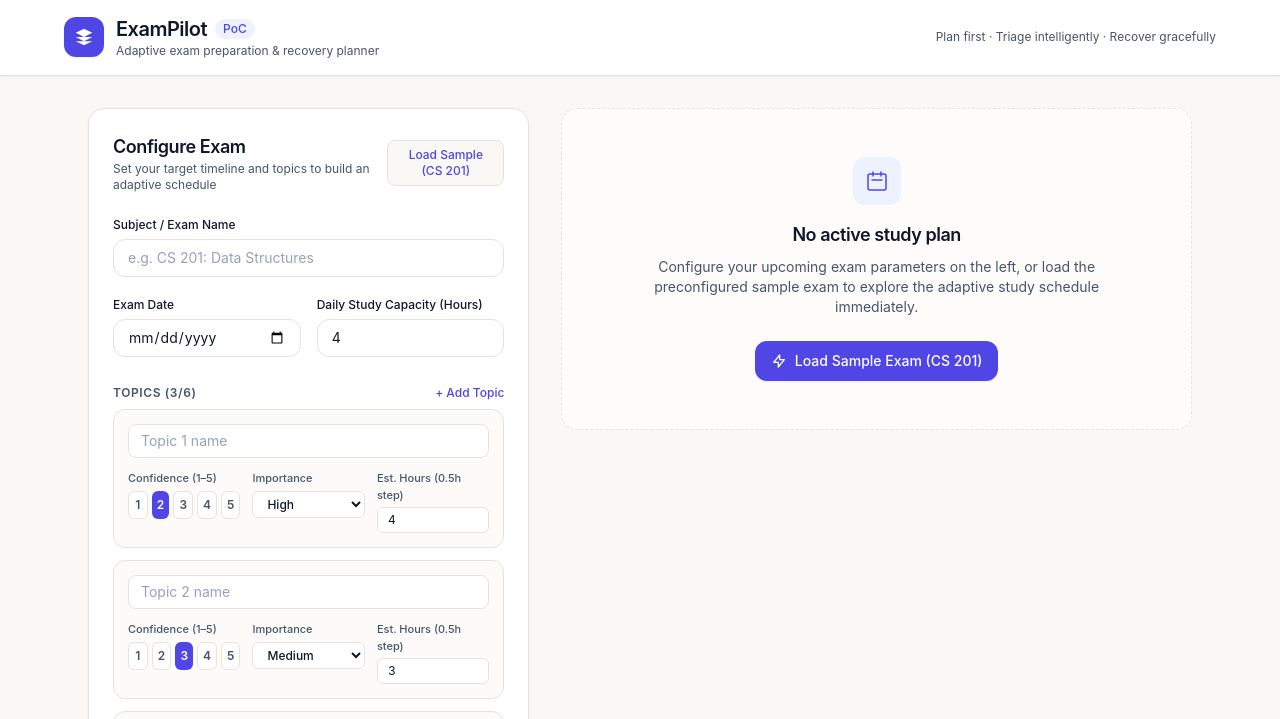
Test case: App Integration & End-to-End Golden Flow › tests reset confirmation modal: cancelling preserves plan, confirming resets to empty state
Note: Load sample
Click the button "Load Sample Exam (CS 201)" at coordinates (877, 361), box x1=755 y1=341 x2=998 y2=381
(page scrolled)
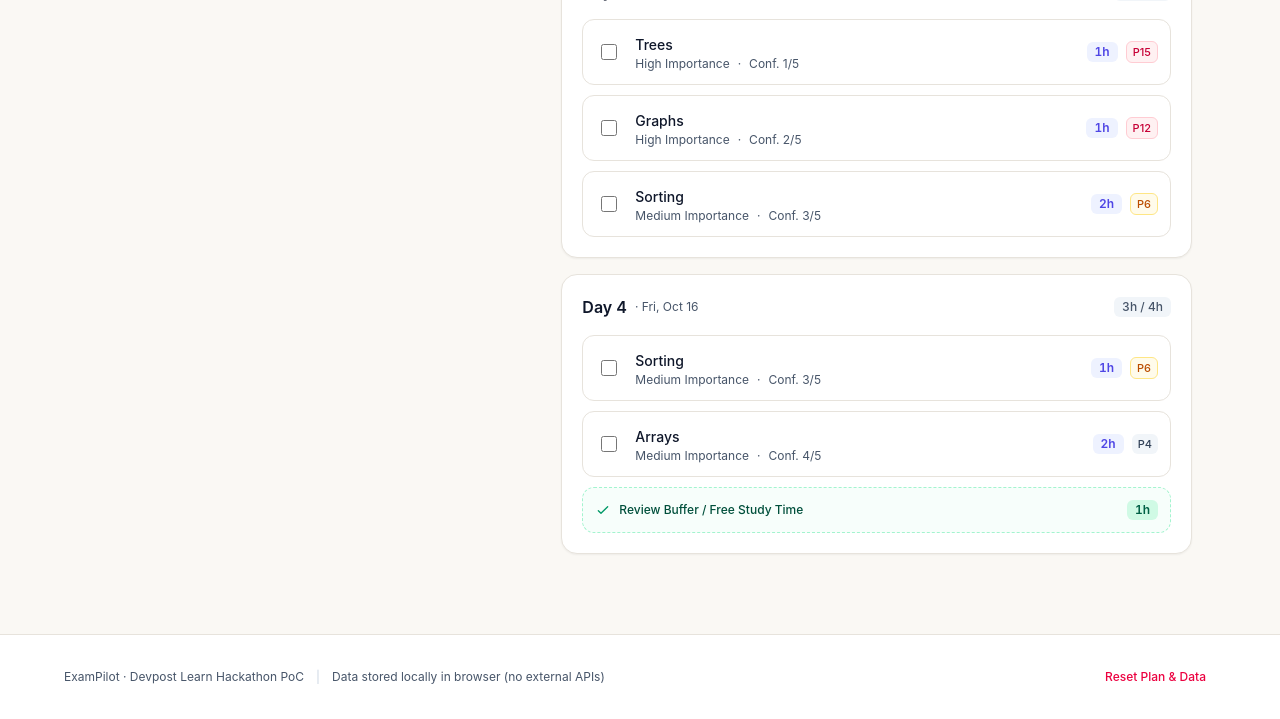
Note: Click Reset in Footer
Click the button "Reset Plan & Data" at coordinates (1156, 677), box x1=1095 y1=659 x2=1216 y2=695
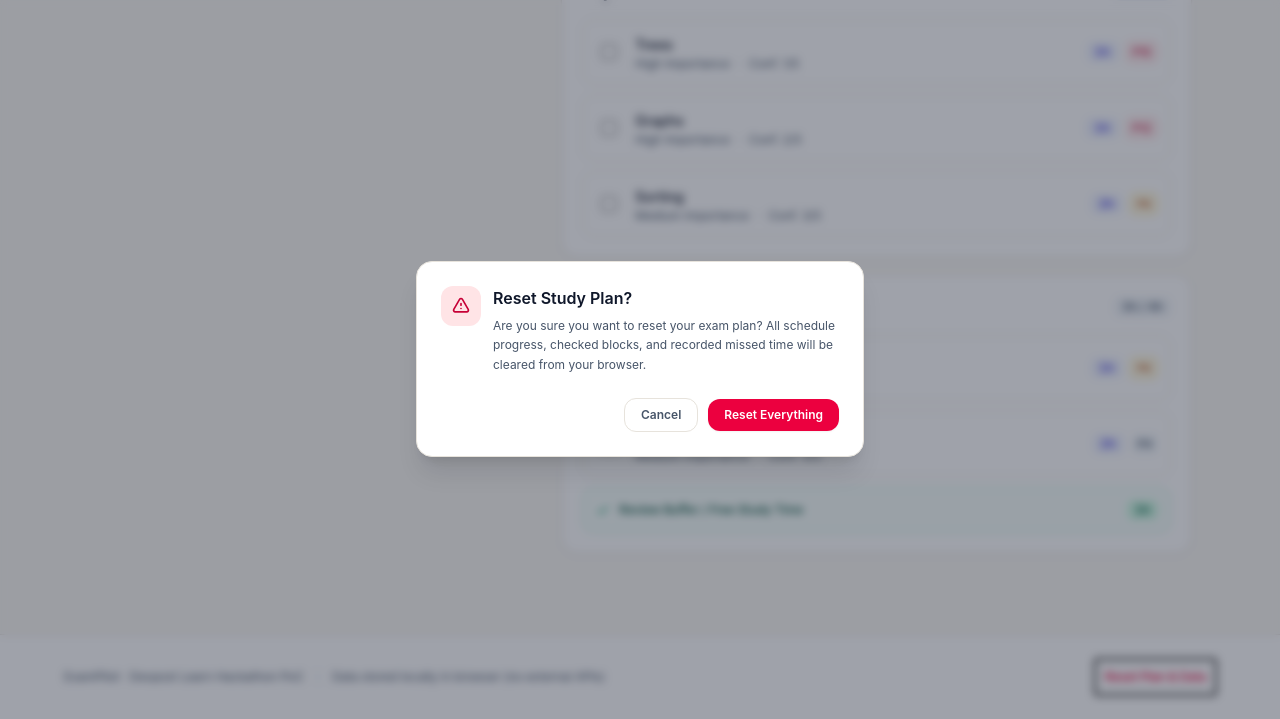
Now the heading "Reset Study Plan?" is shown, box x1=493 y1=288 x2=632 y2=308
Note: Cancel reset
Click the button "Cancel" at coordinates (661, 415), box x1=624 y1=398 x2=698 y2=432
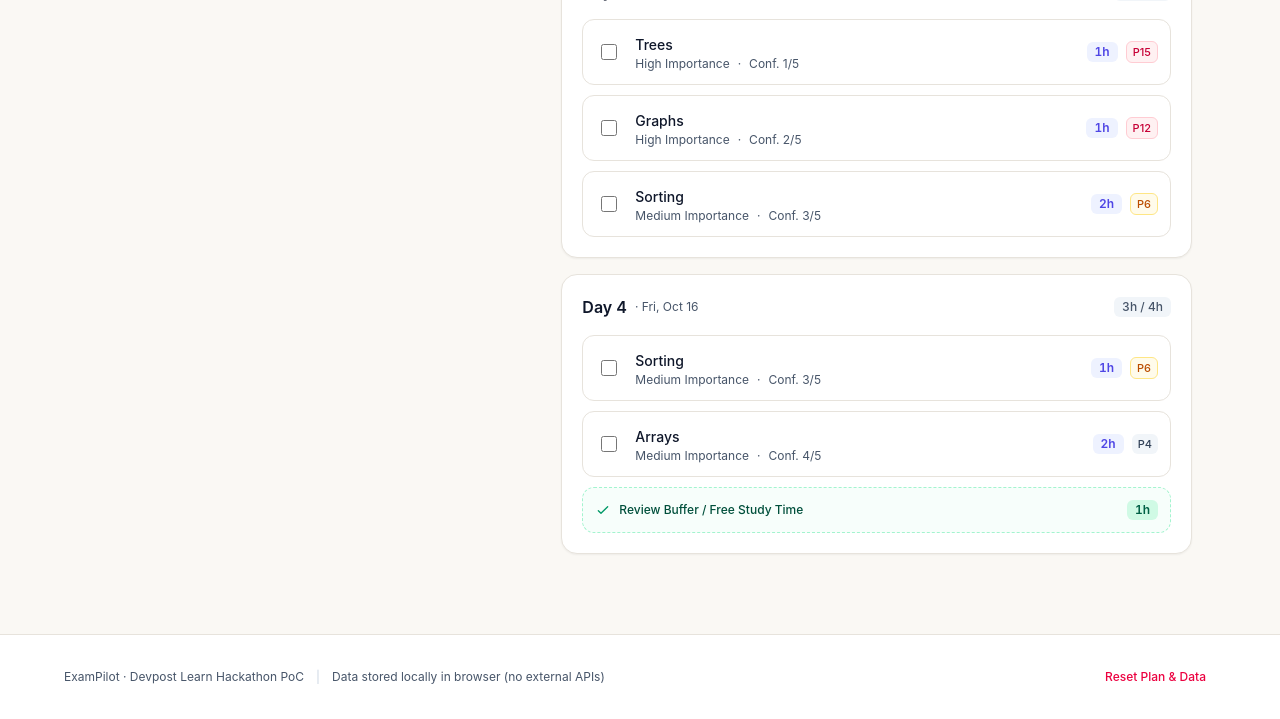
Note: Now click Reset and Confirm
Click the button "Reset Plan & Data" at coordinates (1156, 677), box x1=1095 y1=659 x2=1216 y2=695
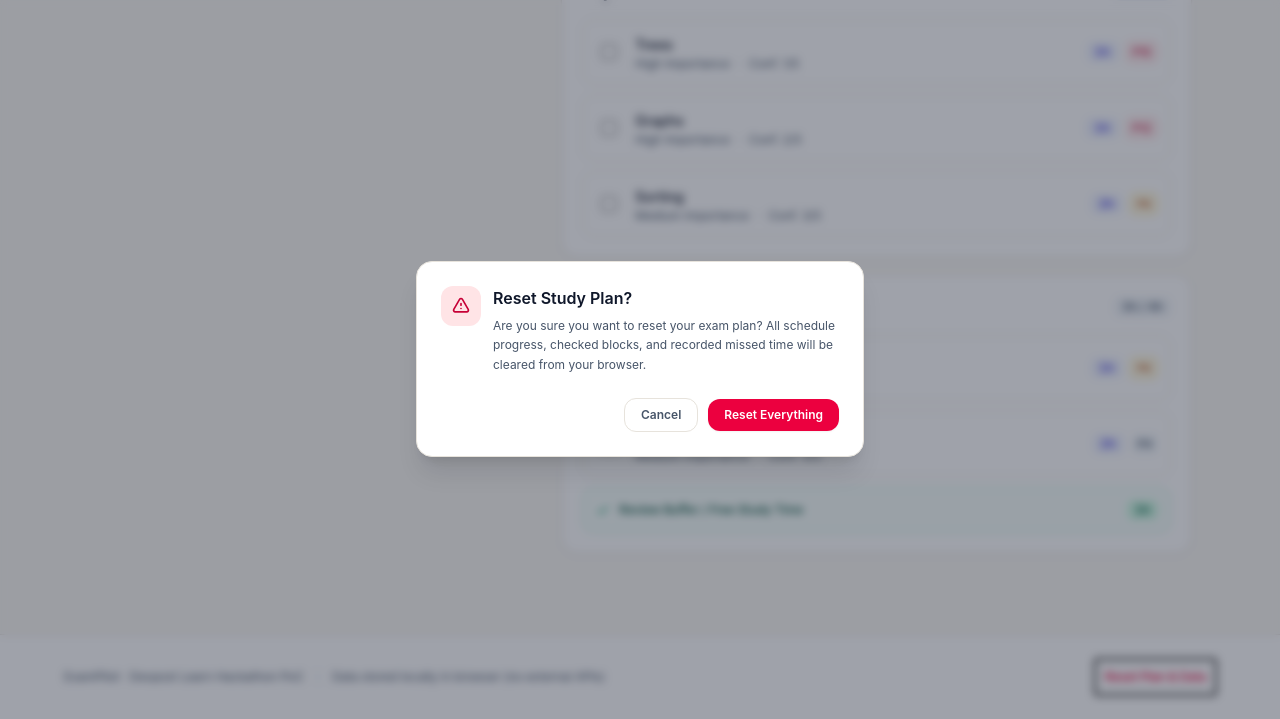
Click the button "Reset Everything" at coordinates (774, 415), box x1=708 y1=399 x2=839 y2=431
(page scrolled)
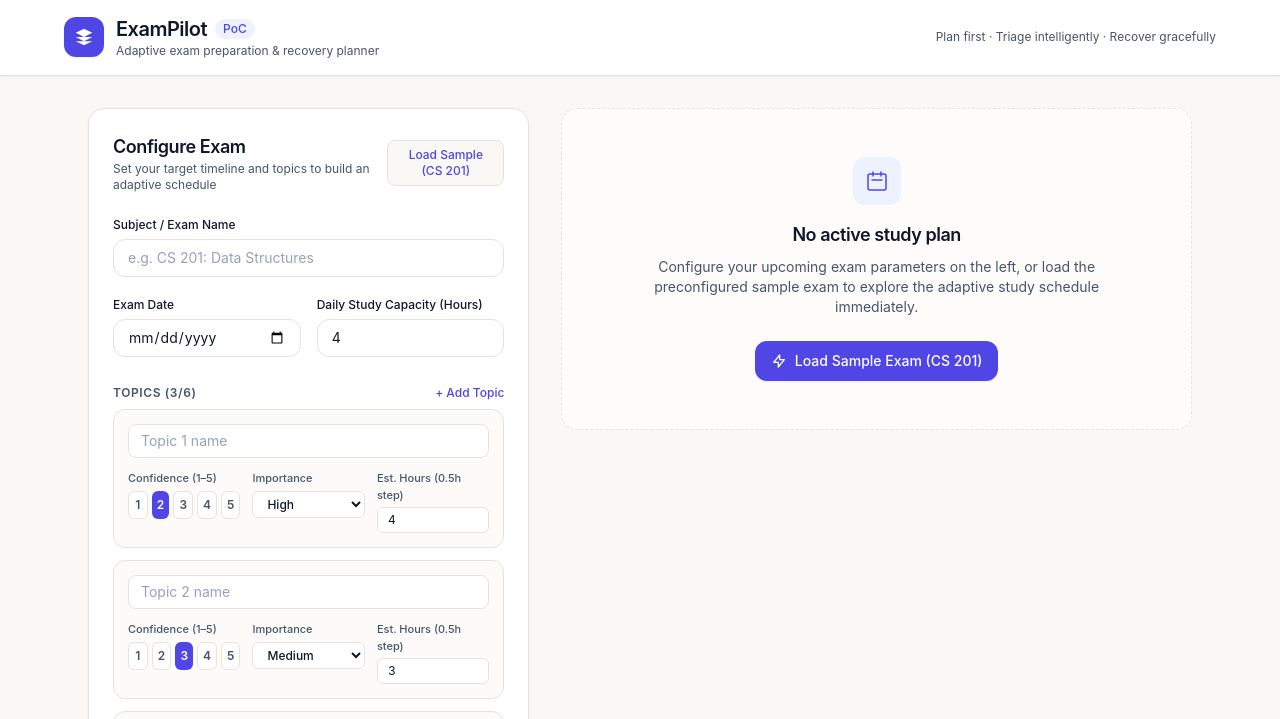
Now the heading "No active study plan" is shown, box x1=792 y1=224 x2=961 y2=245
